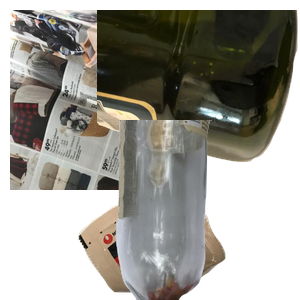glass: (113, 120, 300, 300)
paper: (10, 10, 250, 190)
plastic: (97, 10, 300, 165)
trash: (76, 170, 300, 300)
